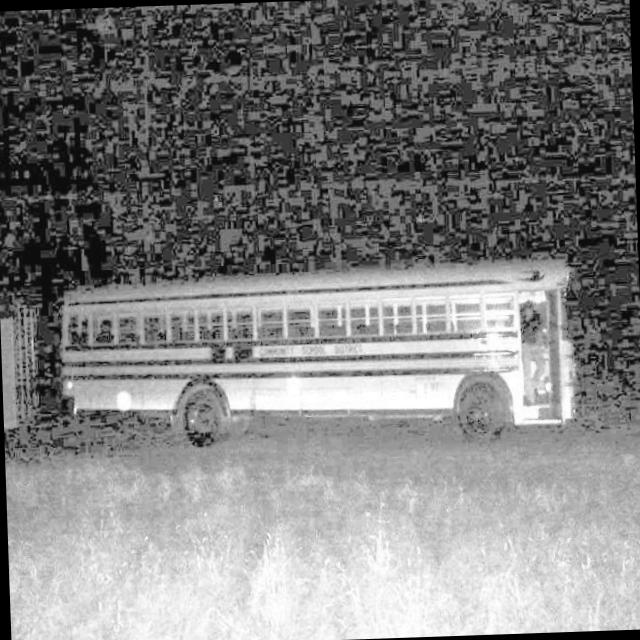Bus: (57, 197, 602, 499)
